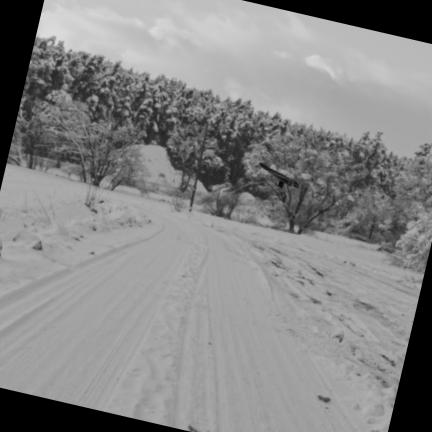Shahed: (259, 162, 298, 188)
